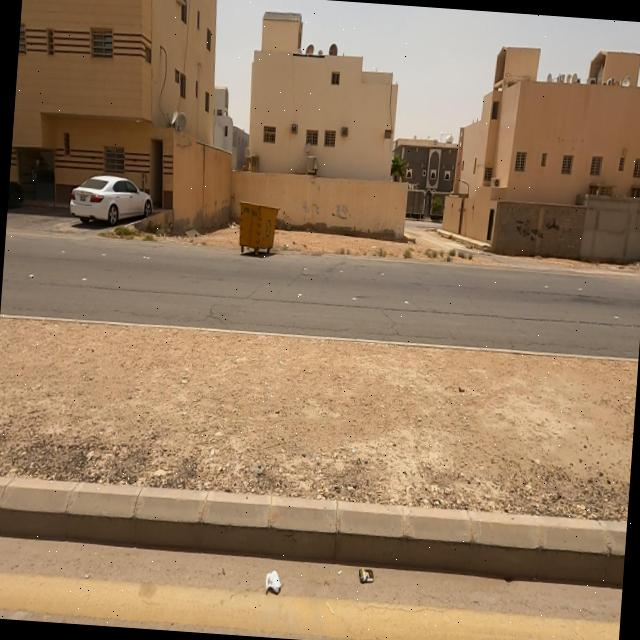Graffiti: (514, 213, 562, 247), (332, 202, 357, 223), (302, 201, 310, 213), (312, 205, 320, 216)
